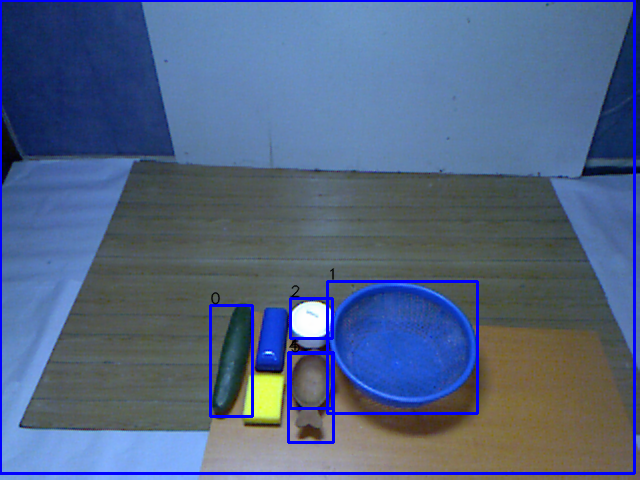azucarero: (284, 293, 336, 354)
borrador: (252, 300, 291, 378)
colador: (321, 278, 484, 414)
esponja: (238, 370, 288, 431)
pepino: (207, 297, 257, 425)
pescado: (283, 347, 337, 440)
